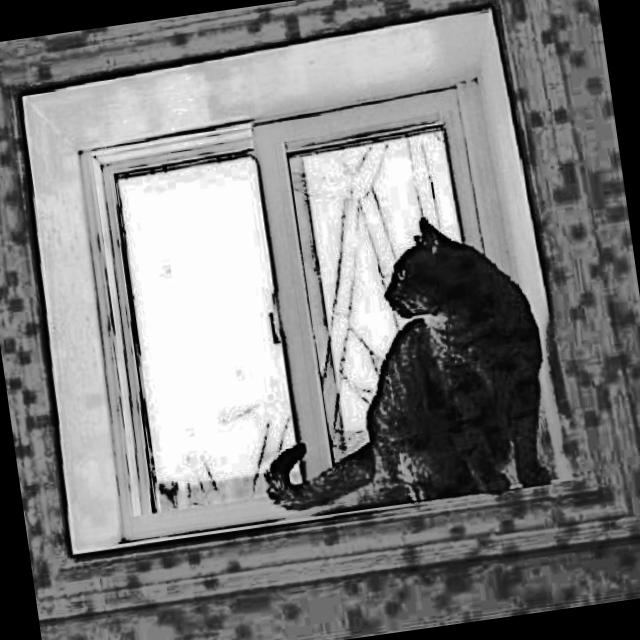Cat: (231, 198, 574, 531)
